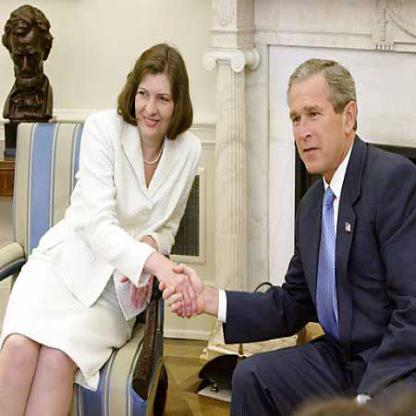face: (289, 64, 345, 178), (136, 54, 178, 142)
